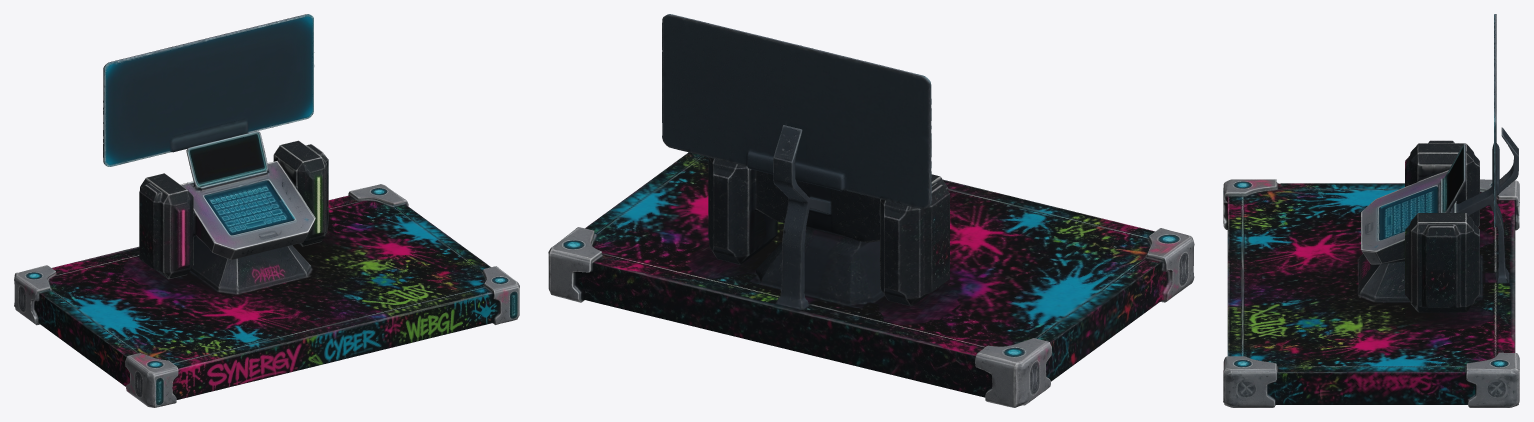
File: Meshy_AI_Neon_Cyber_Synergy_0828223202_texture.glb
3 views of the same model, side by side, from view 1: azimuth 30°, elevation 25°; view 2: azimuth 150°, elevation 25°; view 3: azimuth 270°, elevation 25° (orthographic). The views are drawn at different scales.
Parts seen in each view (by area): view 1: mesh_node; view 2: mesh_node; view 3: mesh_node.
Boxes of the visible parts, left/top/right/bottom form: mesh_node: left=14, top=14, right=519, bottom=407; mesh_node: left=548, top=14, right=1194, bottom=407; mesh_node: left=1223, top=14, right=1519, bottom=407.
Size of the model in its own units: 1.9 by 1.14 by 1.23.
Materials: 1 (1 with a texture image).
